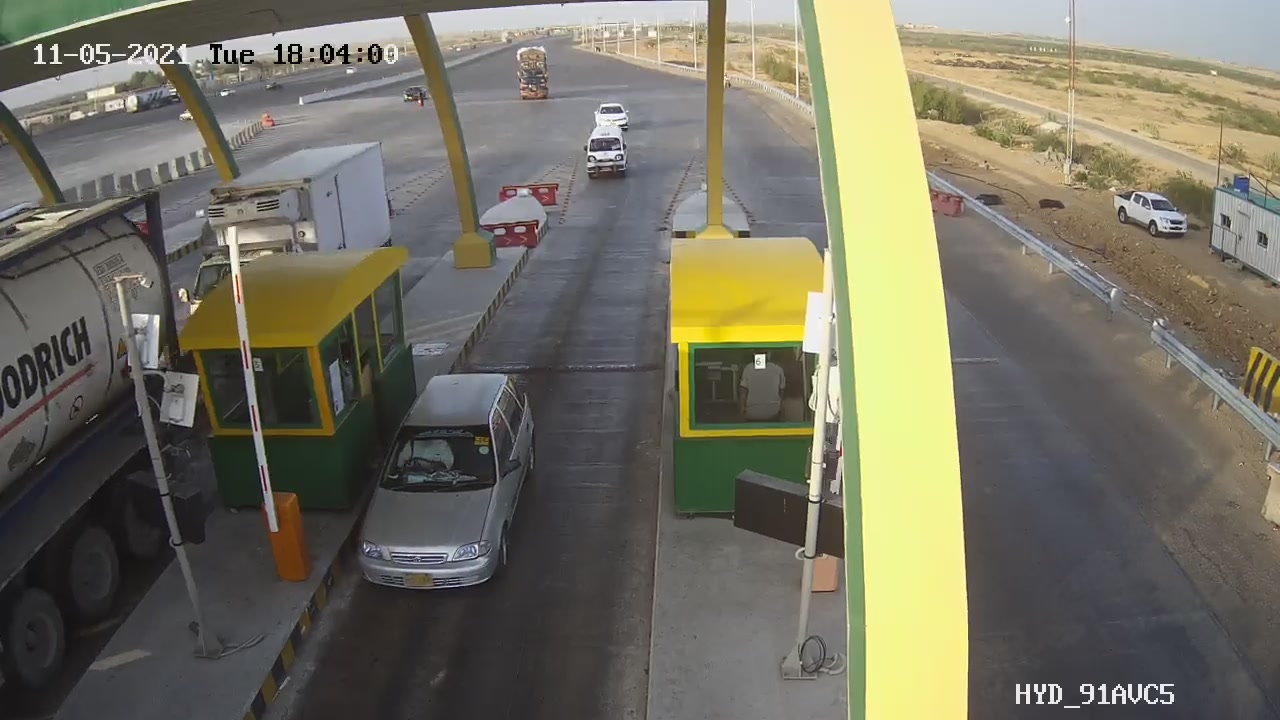F1: (342, 355, 563, 614)
